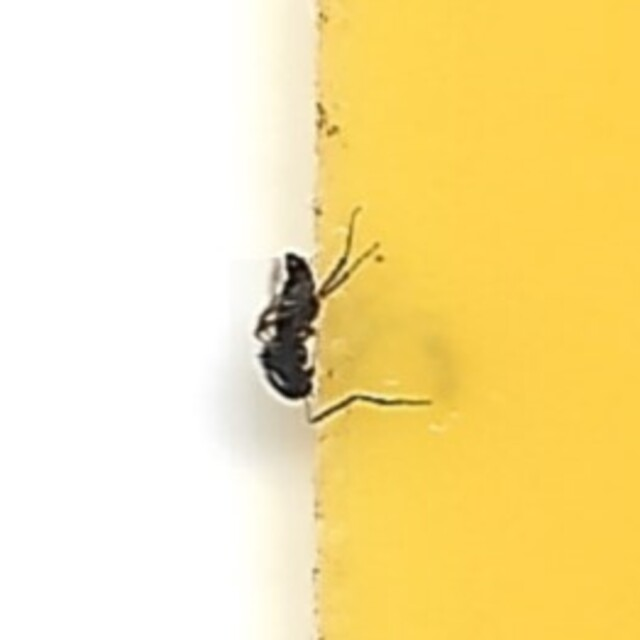Brachycera: (244, 224, 396, 416)
